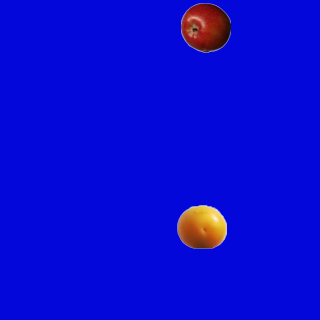Apple Braeburn: (180, 2, 230, 52)
Cherry Wax Yellow: (176, 201, 226, 251)
